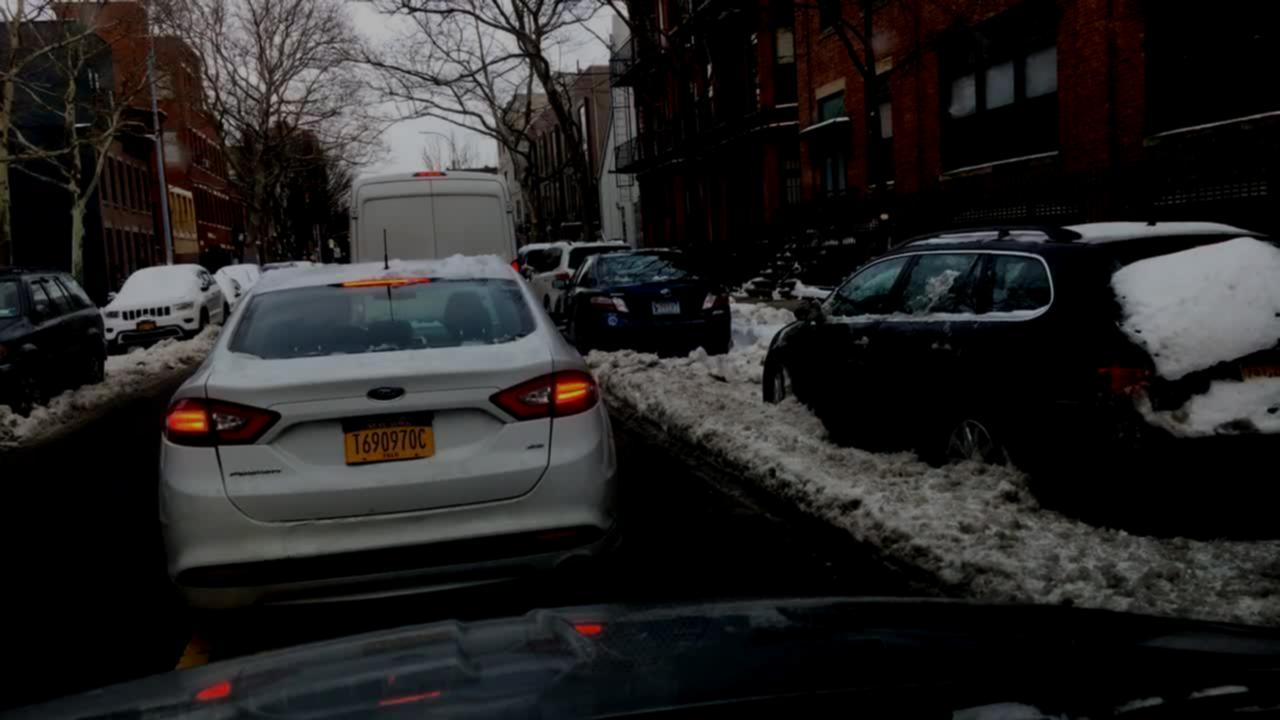Toyota: (657, 286, 675, 299)
ford: (362, 382, 415, 407)
